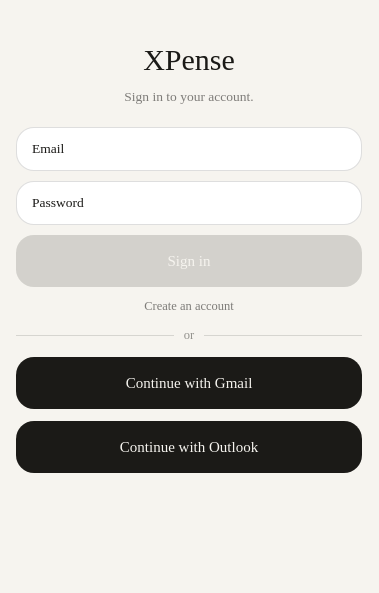
it: registering with an email that already has a password shows the conflict error
Step 1. Click the text with test id "login-toggle-mode" → click(189, 306), box [144,299,234,313]
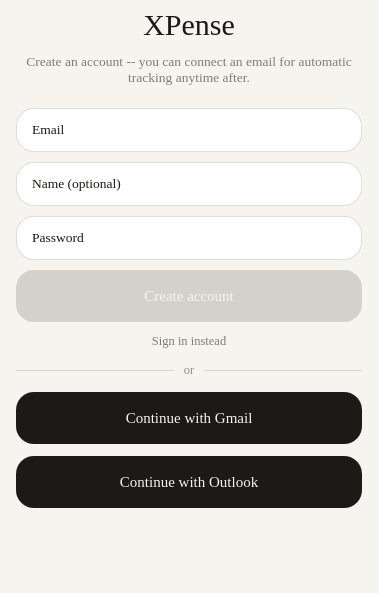
Step 2. Type "dup@example.com" into the field with test id "login-email" → (189, 130), box [16,108,362,152]
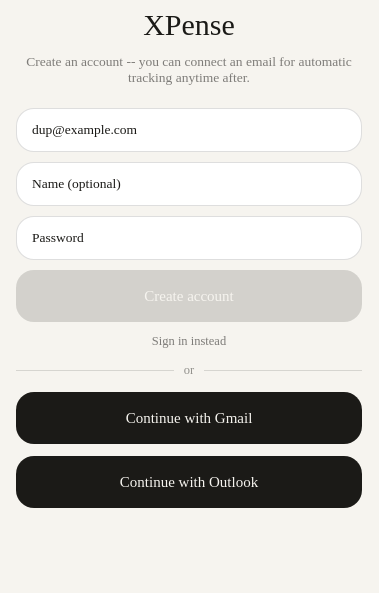
Step 3. Type "whatever" into the password field with test id "login-password" → (189, 238), box [16,216,362,260]
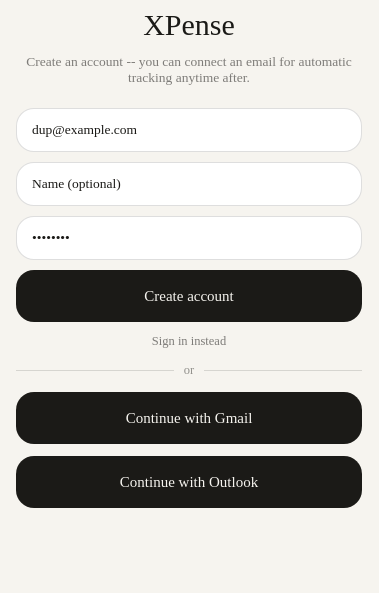
Step 4. Click the element with test id "login-submit" → click(189, 296), box [16,270,362,322]
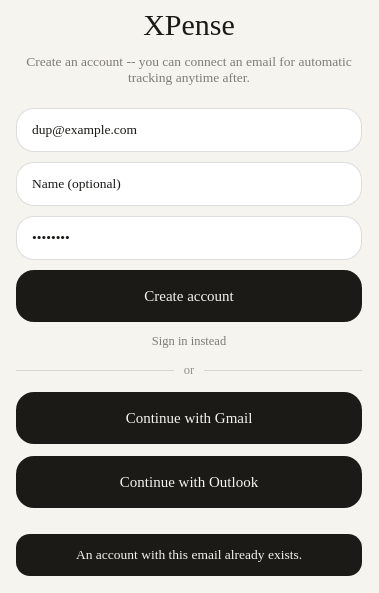
Check: the text "An account with this email already exists." is shown, box [76,547,302,562]
